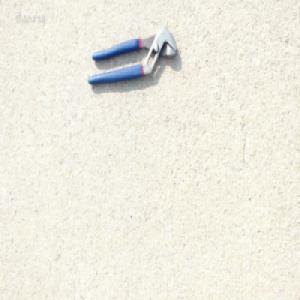Pliers: (86, 25, 177, 85)
